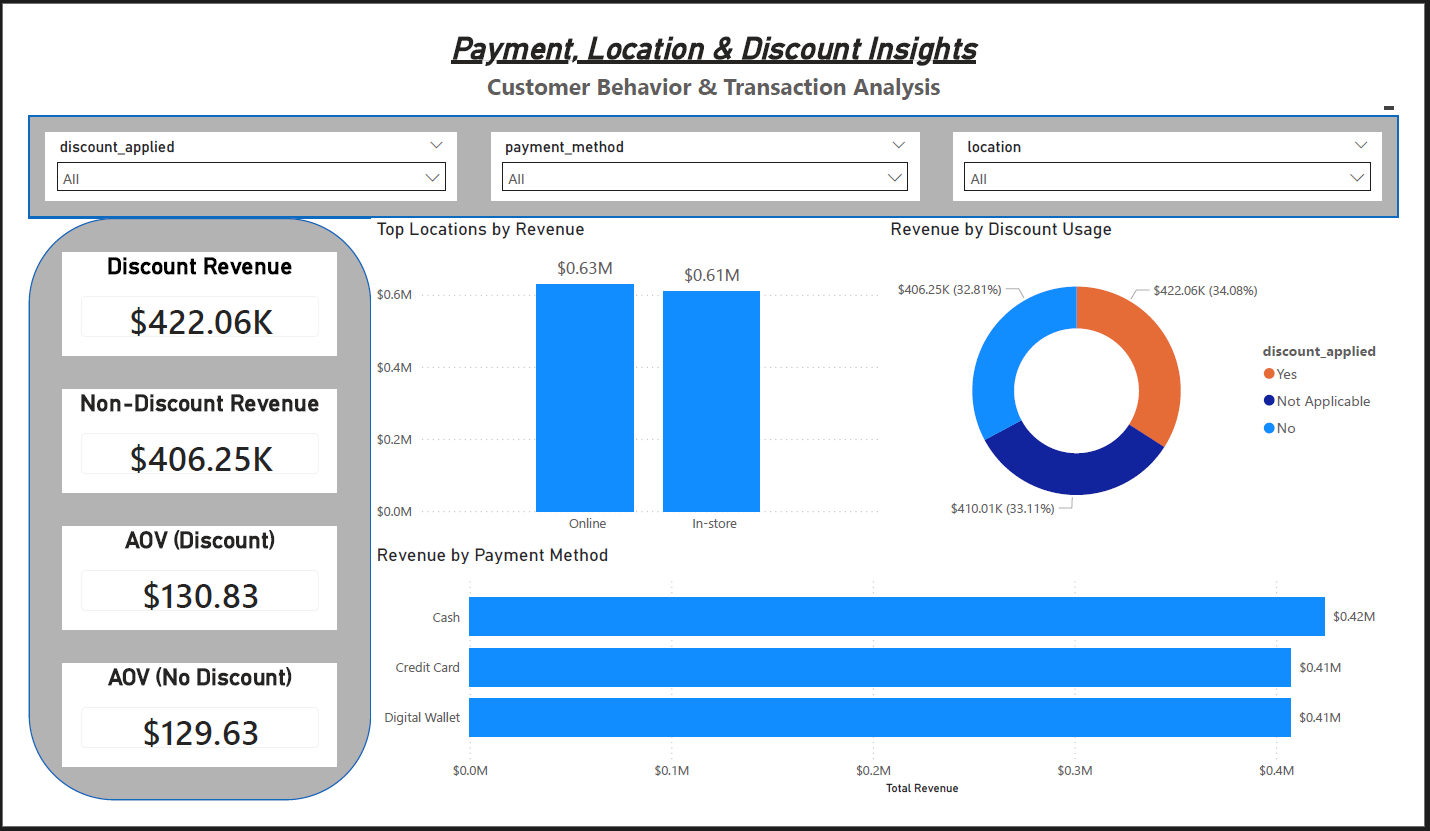

The page's visual inventory and layout, read from the dashboard file:
{"tool":"powerbi","page":{"name":"Payment, Location & Discount","canvas":[1280,720],"ordinal":3},"visuals":[{"type":"textbox","title":"Payment, Location & Discount Insights","box":[0,0,1280,80],"z":0},{"type":"shape","box":[0,80,1280,96],"z":1000},{"type":"slicer","fields":{"Values":["gold discount_analysis.discount_applied"]},"box":[16,96,384,64],"z":2000},{"type":"slicer","fields":{"Values":["gold payment_analysis.payment_method"]},"box":[432,96,400,64],"z":3000},{"type":"slicer","fields":{"Values":["gold location_analysis.location"]},"box":[864,96,400,64],"z":4000},{"type":"shape","box":[0,176,320,544],"z":5000},{"type":"cardVisual","title":"Discount Revenue","fields":{"Data":["gold discount_analysis.Revenue With Discount"]},"box":[32,208,256,96],"z":6000},{"type":"cardVisual","title":"Non-Discount Revenue","fields":{"Data":["gold discount_analysis.Revenue Without Discount"]},"box":[32,336,256,96],"z":7000},{"type":"cardVisual","title":"AOV (Discount)","fields":{"Data":["gold discount_analysis.AOV With Discount"]},"box":[32,464,256,96],"z":8000},{"type":"cardVisual","title":"AOV (No Discount)","fields":{"Data":["gold discount_analysis.AOV Without Discount"]},"box":[32,592,256,96],"z":9000},{"type":"clusteredBarChart","title":"Revenue by Payment Method","fields":{"Category":["gold payment_analysis.payment_method"],"Y":["Sum(gold payment_analysis.total_revenue)"]},"box":[320,480,960,240],"z":9001},{"type":"clusteredColumnChart","title":"Top Locations by Revenue","fields":{"Category":["gold location_analysis.location"],"Y":["Sum(gold location_analysis.total_revenue)"]},"box":[320,176,480,304],"z":9002},{"type":"donutChart","title":"Revenue by Discount Usage","fields":{"Category":["gold discount_analysis.discount_applied"],"Y":["Sum(gold discount_analysis.total_revenue)"]},"box":[800,176,480,304],"z":9003}]}

Visuals, with their boxes on the page's 1280x720 design canvas (x1, y1, x2, y2). These are canvas units, not pixel positions in the 1430x831 screenshot, which may show the page scaled, cropped or inside an application window:
"Payment, Location & Discount Insights" textbox: x1=0, y1=0, x2=1280, y2=80
shape: x1=0, y1=80, x2=1280, y2=176
slicer - gold discount_analysis.discount_applied: x1=16, y1=96, x2=400, y2=160
slicer - gold payment_analysis.payment_method: x1=432, y1=96, x2=832, y2=160
slicer - gold location_analysis.location: x1=864, y1=96, x2=1264, y2=160
shape: x1=0, y1=176, x2=320, y2=720
"Discount Revenue" cardVisual: x1=32, y1=208, x2=288, y2=304
"Non-Discount Revenue" cardVisual: x1=32, y1=336, x2=288, y2=432
"AOV (Discount)" cardVisual: x1=32, y1=464, x2=288, y2=560
"AOV (No Discount)" cardVisual: x1=32, y1=592, x2=288, y2=688
"Revenue by Payment Method" clusteredBarChart: x1=320, y1=480, x2=1280, y2=720
"Top Locations by Revenue" clusteredColumnChart: x1=320, y1=176, x2=800, y2=480
"Revenue by Discount Usage" donutChart: x1=800, y1=176, x2=1280, y2=480
